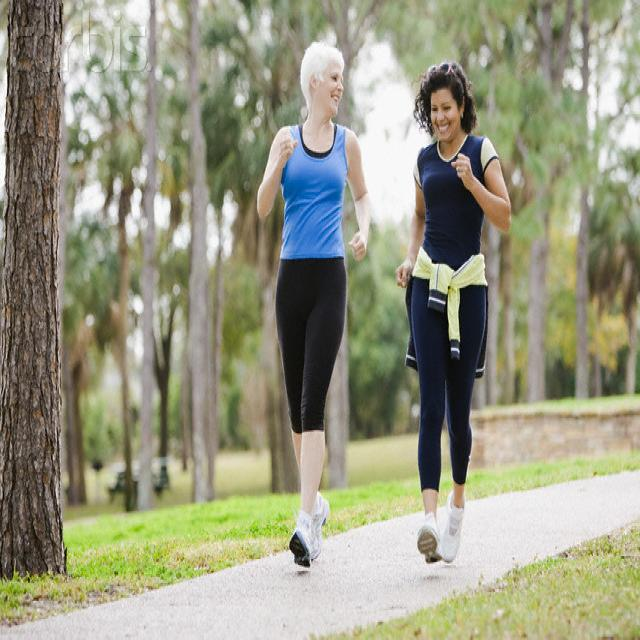Person: (258, 42, 369, 574), (396, 62, 511, 561)
